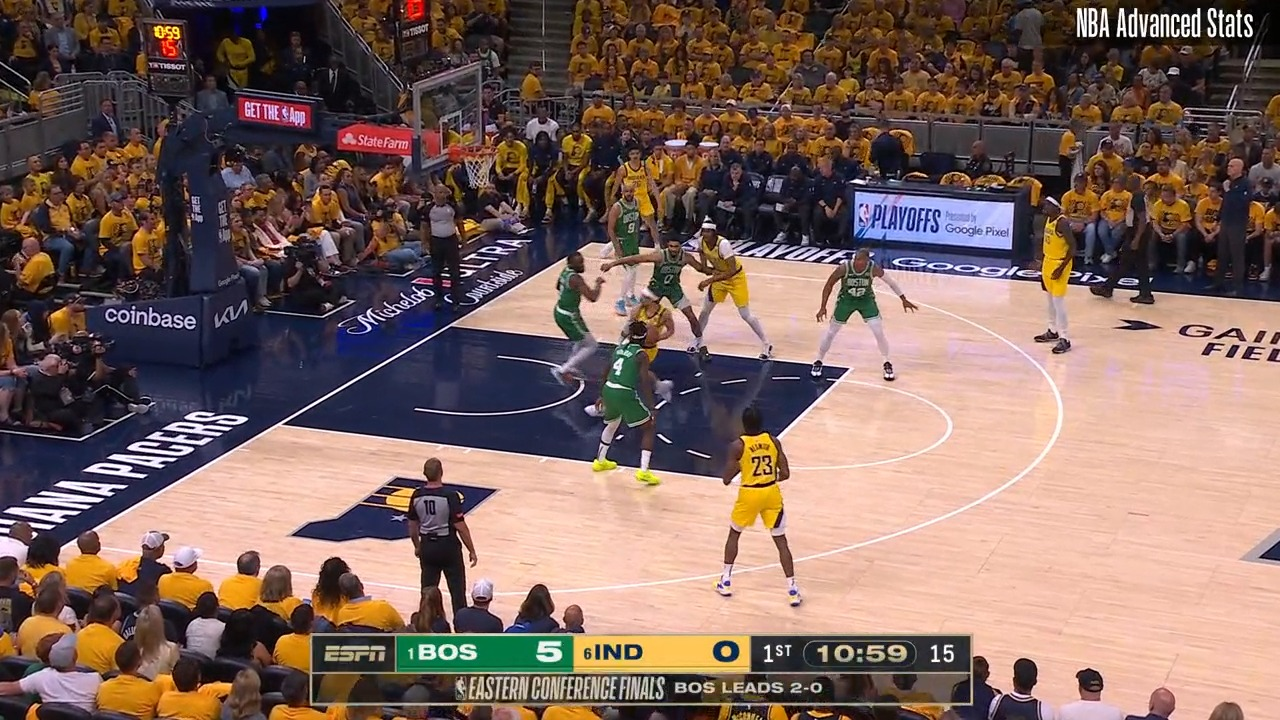basketball: (639, 326, 660, 347)
